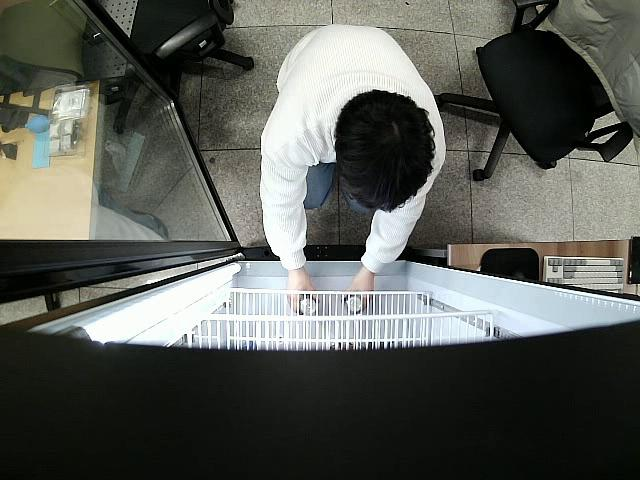00_hand: (341, 267, 376, 315), (285, 271, 318, 316)
